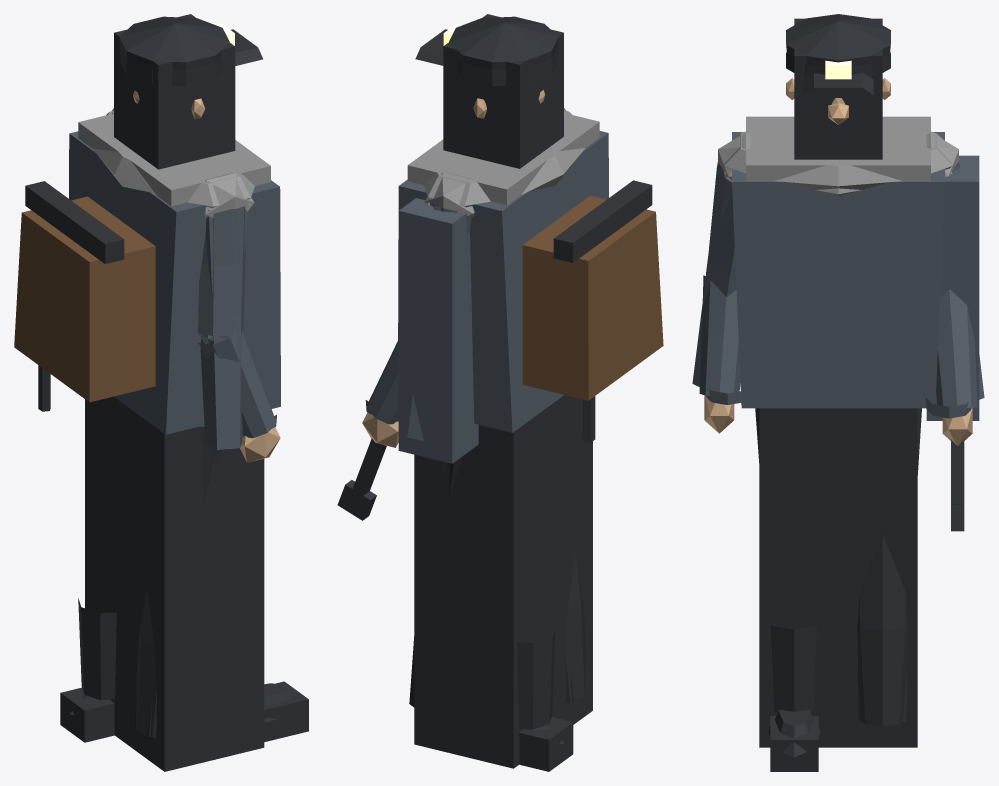
File: veyran_engineer.glb
3 views of the same model, side by side, from view 1: azimuth 30°, elevation 25°; view 2: azimuth 150°, elevation 25°; view 3: azimuth 270°, elevation 25° (orthographic).
Parts seen in each view (by area): view 1: leg_l (×3), torso (×2), head (×2), arm_r (×2), leg_r (×2); view 2: leg_l (×3), torso (×3), arm_l (×2), head (×2), leg_r; view 3: torso (×3), leg_l (×2), head (×2), arm_l (×2), arm_r (×2), leg_r (×2).
Part boxes in pixels (x1,y1,x2,y2): leg_l (×3): [60, 396, 264, 771]; torso (×2): [14, 111, 280, 434]; head (×2): [114, 14, 262, 169]; arm_r (×2): [197, 173, 280, 462]; leg_r (×2): [134, 427, 308, 741]; leg_l (×3): [409, 395, 592, 771]; torso (×3): [398, 110, 663, 442]; arm_l (×2): [337, 172, 478, 520]; head (×2): [415, 14, 563, 168]; leg_r: [565, 553, 586, 702]; torso (×3): [724, 116, 952, 408]; leg_l (×2): [759, 408, 921, 747]; head (×2): [786, 14, 890, 159]; arm_l (×2): [925, 132, 979, 531]; arm_r (×2): [692, 132, 750, 433]; leg_r (×2): [755, 408, 820, 771].
Size of the model in its own units: 0.6079 by 1.76 by 0.6634.
